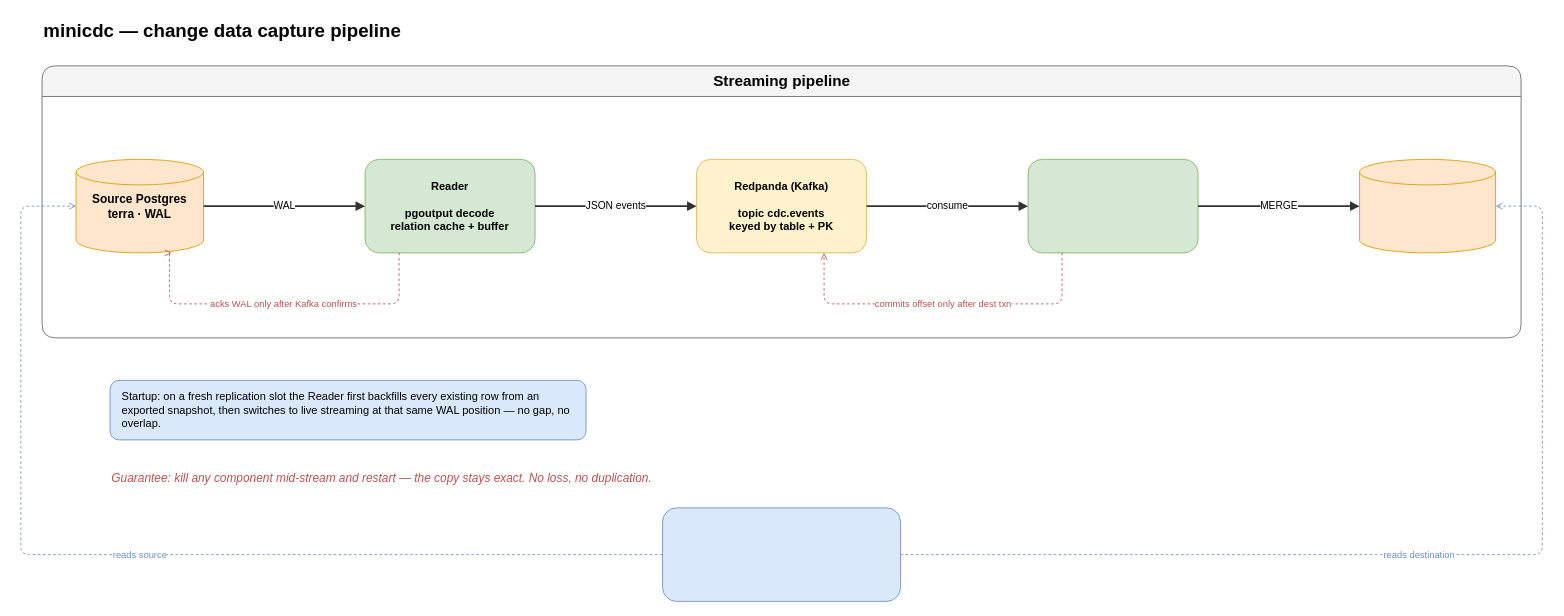
This 1564x616 diagram has some shape labels left out. The shapes that lost their labels are listed below. From the top down, each one's centre as x and y in pixels, then its label:
point (1112, 206): Writer dedupe + staging one MERGE per txn
point (1427, 206): Destination Postgres warehouse
point (781, 554): cdcctl verify checksums both databases the independent judge
